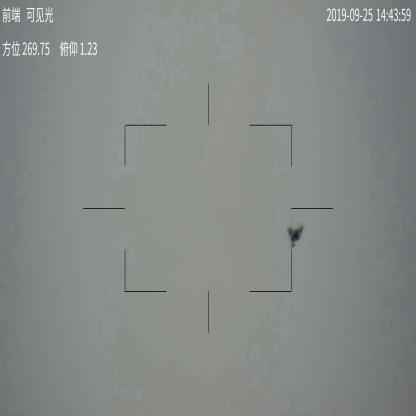uav: (284, 224, 306, 249)
